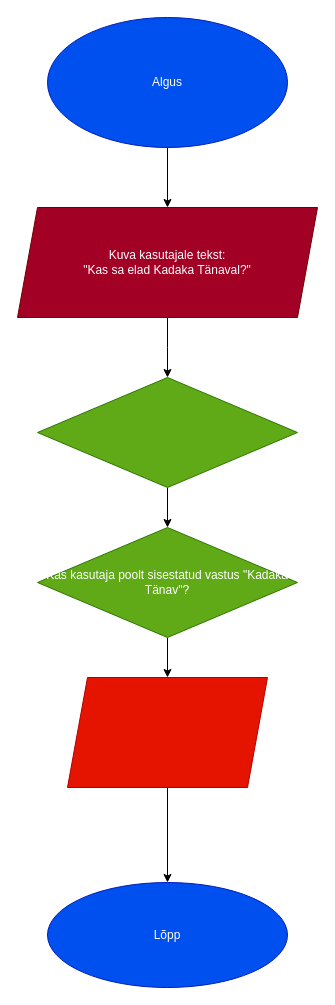
Image size: 335x1005. Some labels were removed from this diagram. The shapes that lost their labels are listed below. From the top down, each one's centre as x and y in pixels, then its label:
point 167,432: Kas kasutaja poolt sisestatud vastus "Jah"?
point 167,732: Kuva kasutajale tekst: "Kas kadakast vestad ka midagi"?
